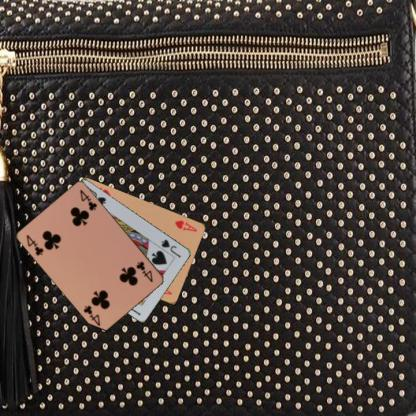4c: (24, 232, 45, 257), (134, 259, 154, 284)
Ah: (172, 217, 198, 233)
Js: (159, 237, 182, 259)
